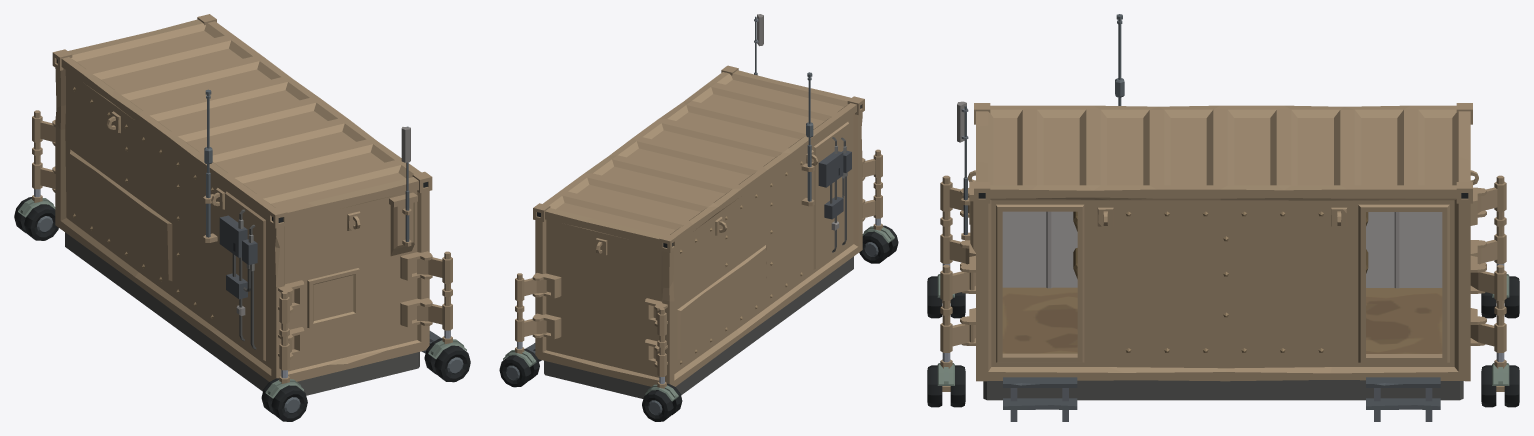
The model's file is SM_Prop_Drone_Control_Room_01.glb.
3 renders of one model, left to right at view 1: azimuth 30°, elevation 25°; view 2: azimuth 150°, elevation 25°; view 3: azimuth 270°, elevation 25°, orthographic. The views are drawn at different scales.
Parts seen in each view (by area): view 1: SM_Prop_Drone_Control_Room_01; view 2: SM_Prop_Drone_Control_Room_01; view 3: SM_Prop_Drone_Control_Room_01.
Boxes of the visible parts, x1,y1,x2,y2 form: SM_Prop_Drone_Control_Room_01: (14,14,470,421); SM_Prop_Drone_Control_Room_01: (499,14,898,421); SM_Prop_Drone_Control_Room_01: (927,14,1519,421).
Size of the model in its own units: 3.32 by 4.07 by 7.25.
Materials: 1 (1 with a texture image).
